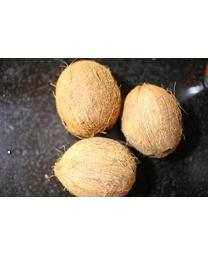coconut: (53, 61, 121, 136), (54, 135, 138, 195), (121, 83, 182, 159)
